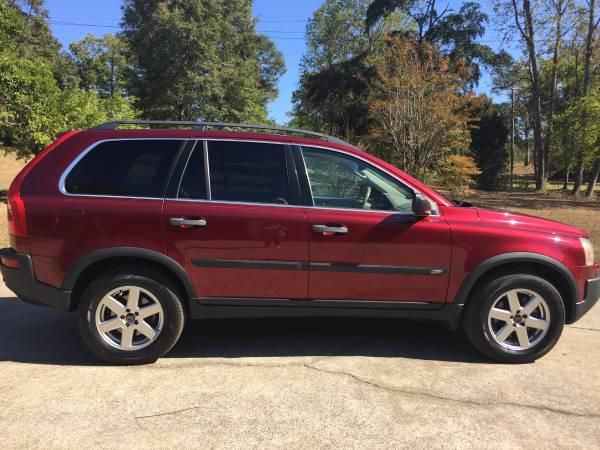volvo: (2, 116, 600, 369)
